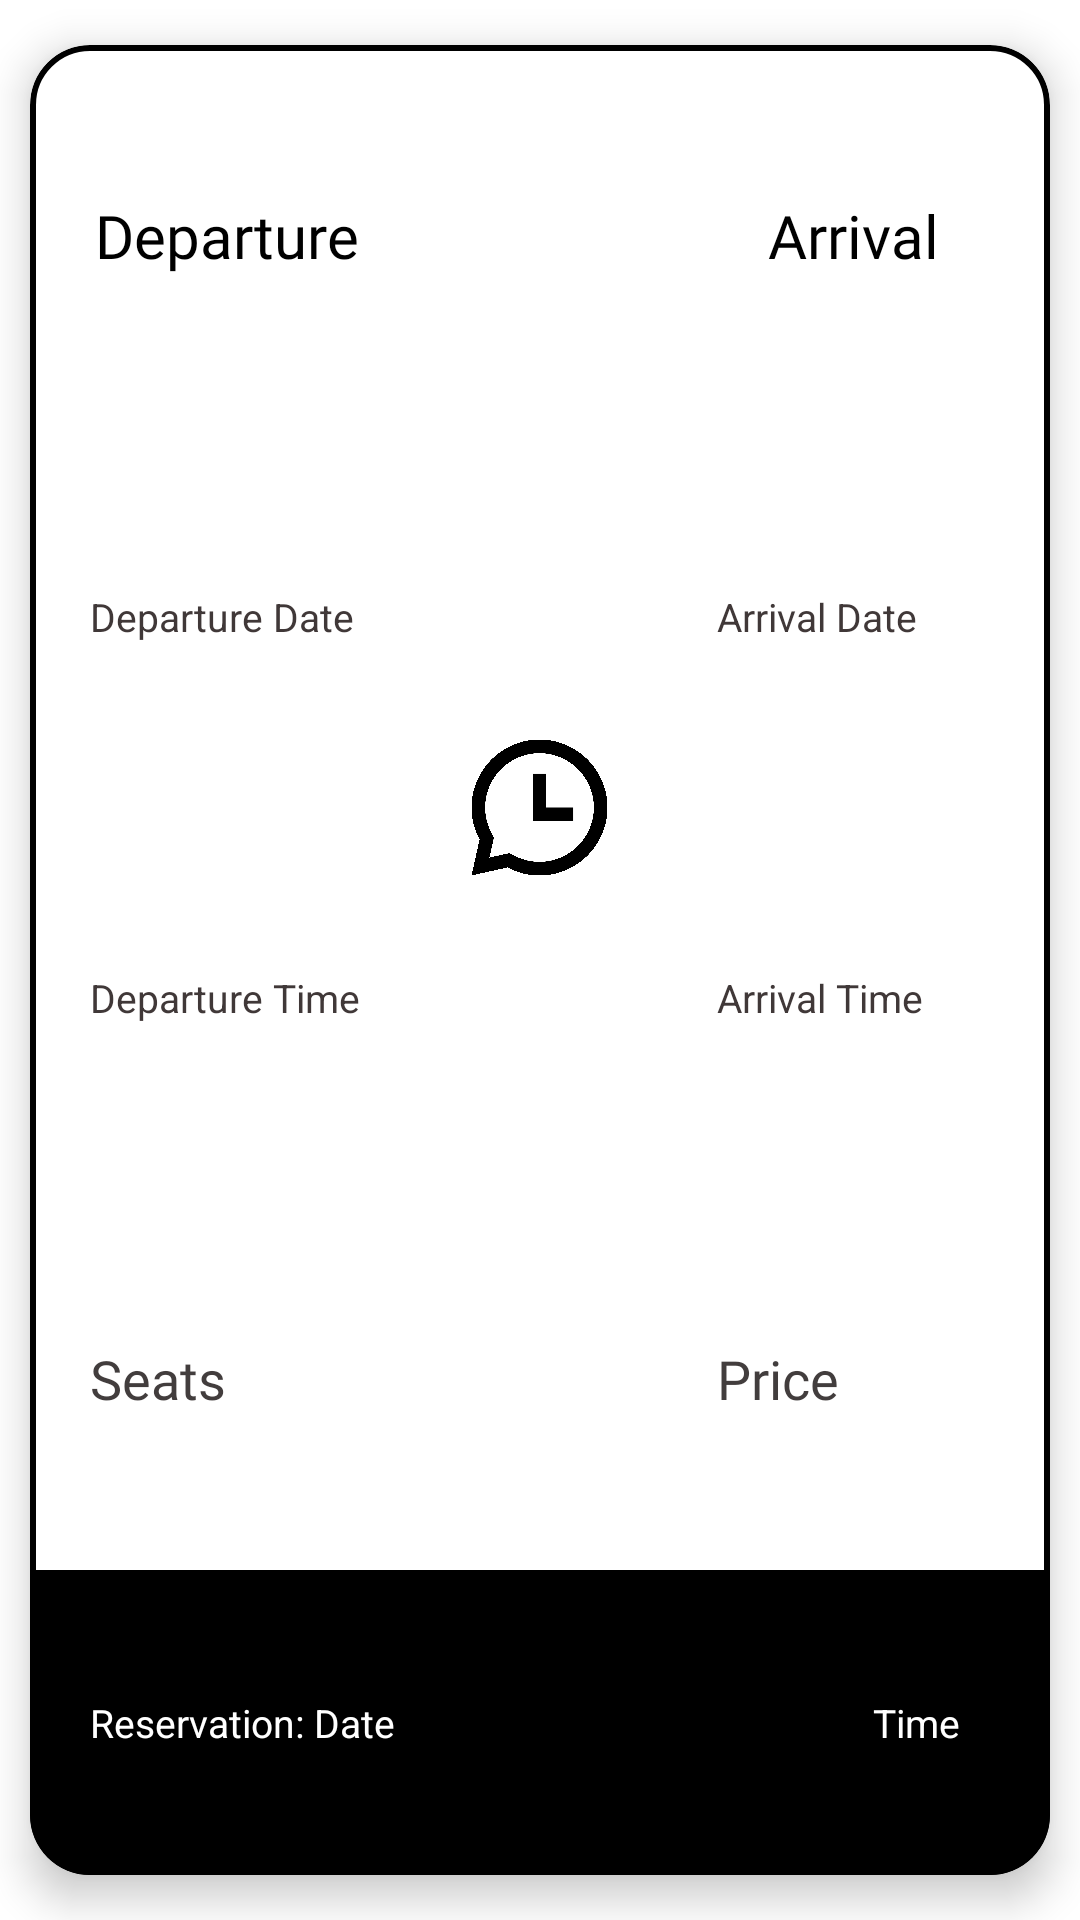

Icons on this 1080px×1920px Android screen, each with the point to tap as [x,y]:
history: [539,807]
